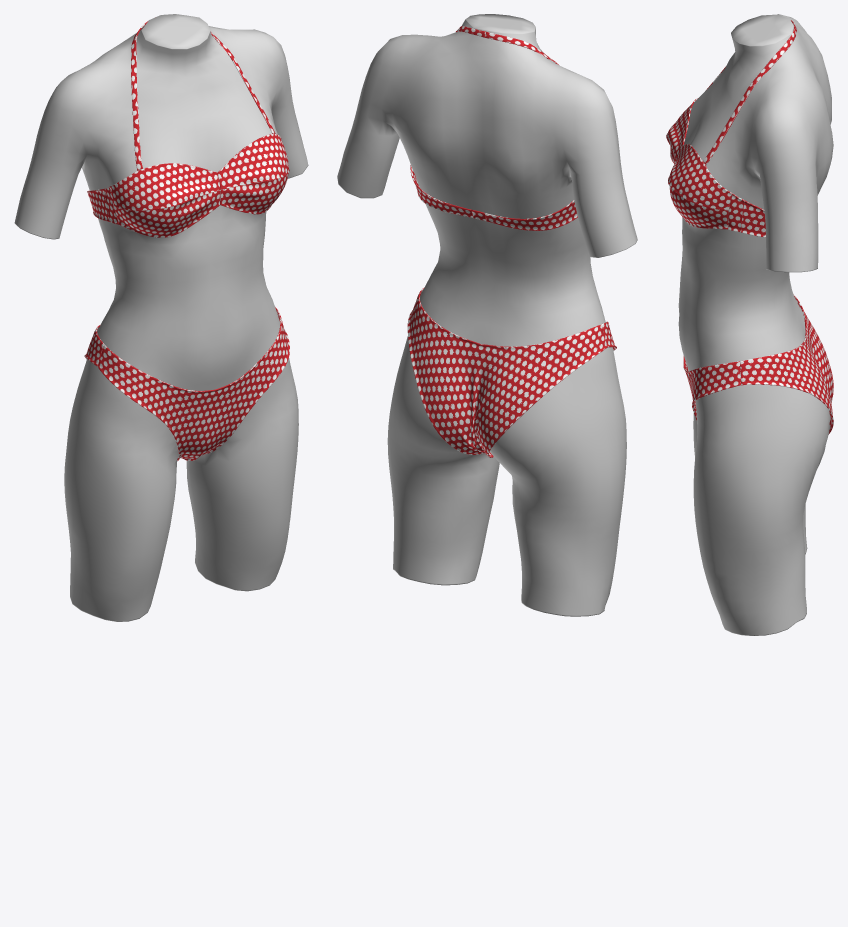
File: Swimsuit_A.gltf
3 renders of one model, left to right at view 1: azimuth 30°, elevation 25°; view 2: azimuth 150°, elevation 25°; view 3: azimuth 270°, elevation 25°, orthographic.
Parts seen in each view (by area): view 1: AvatarMujer_quads, Swimsuit_A_01_Main; view 2: AvatarMujer_quads, Swimsuit_A_01_Main; view 3: AvatarMujer_quads, Swimsuit_A_01_Main.
Part boxes in pixels (box(x1,y1,x2,y2)): AvatarMujer_quads: box(14, 14, 308, 621); Swimsuit_A_01_Main: box(84, 21, 289, 460); AvatarMujer_quads: box(337, 14, 637, 616); Swimsuit_A_01_Main: box(407, 26, 616, 457); AvatarMujer_quads: box(678, 14, 833, 635); Swimsuit_A_01_Main: box(666, 20, 833, 434).
Bounding box in the file's own units: 0.521 × 1.53 × 0.2616.
2 materials, 1 textured.
